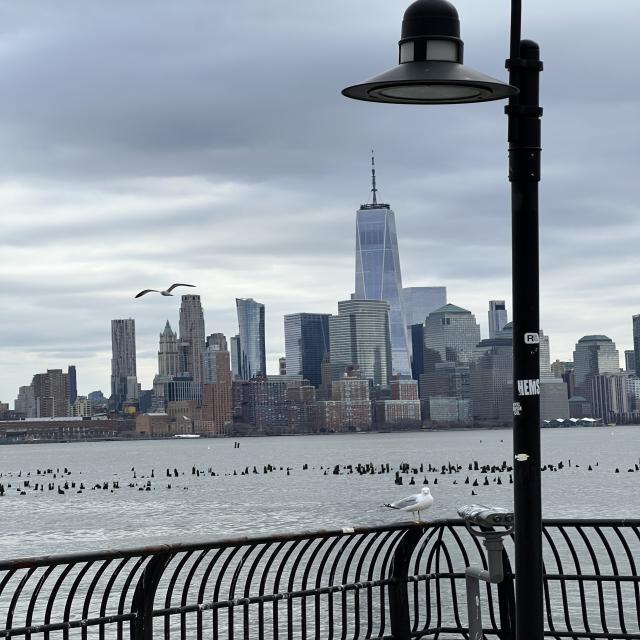WTC: (353, 153, 403, 300)
